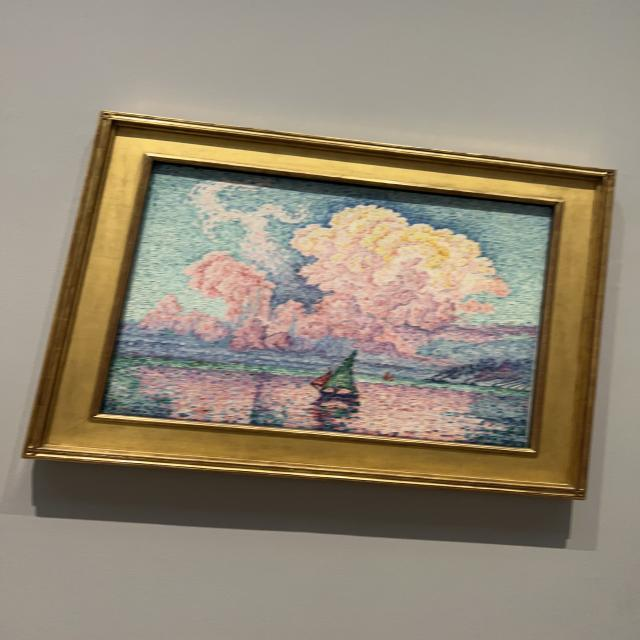sunrise: (104, 170, 546, 444)
